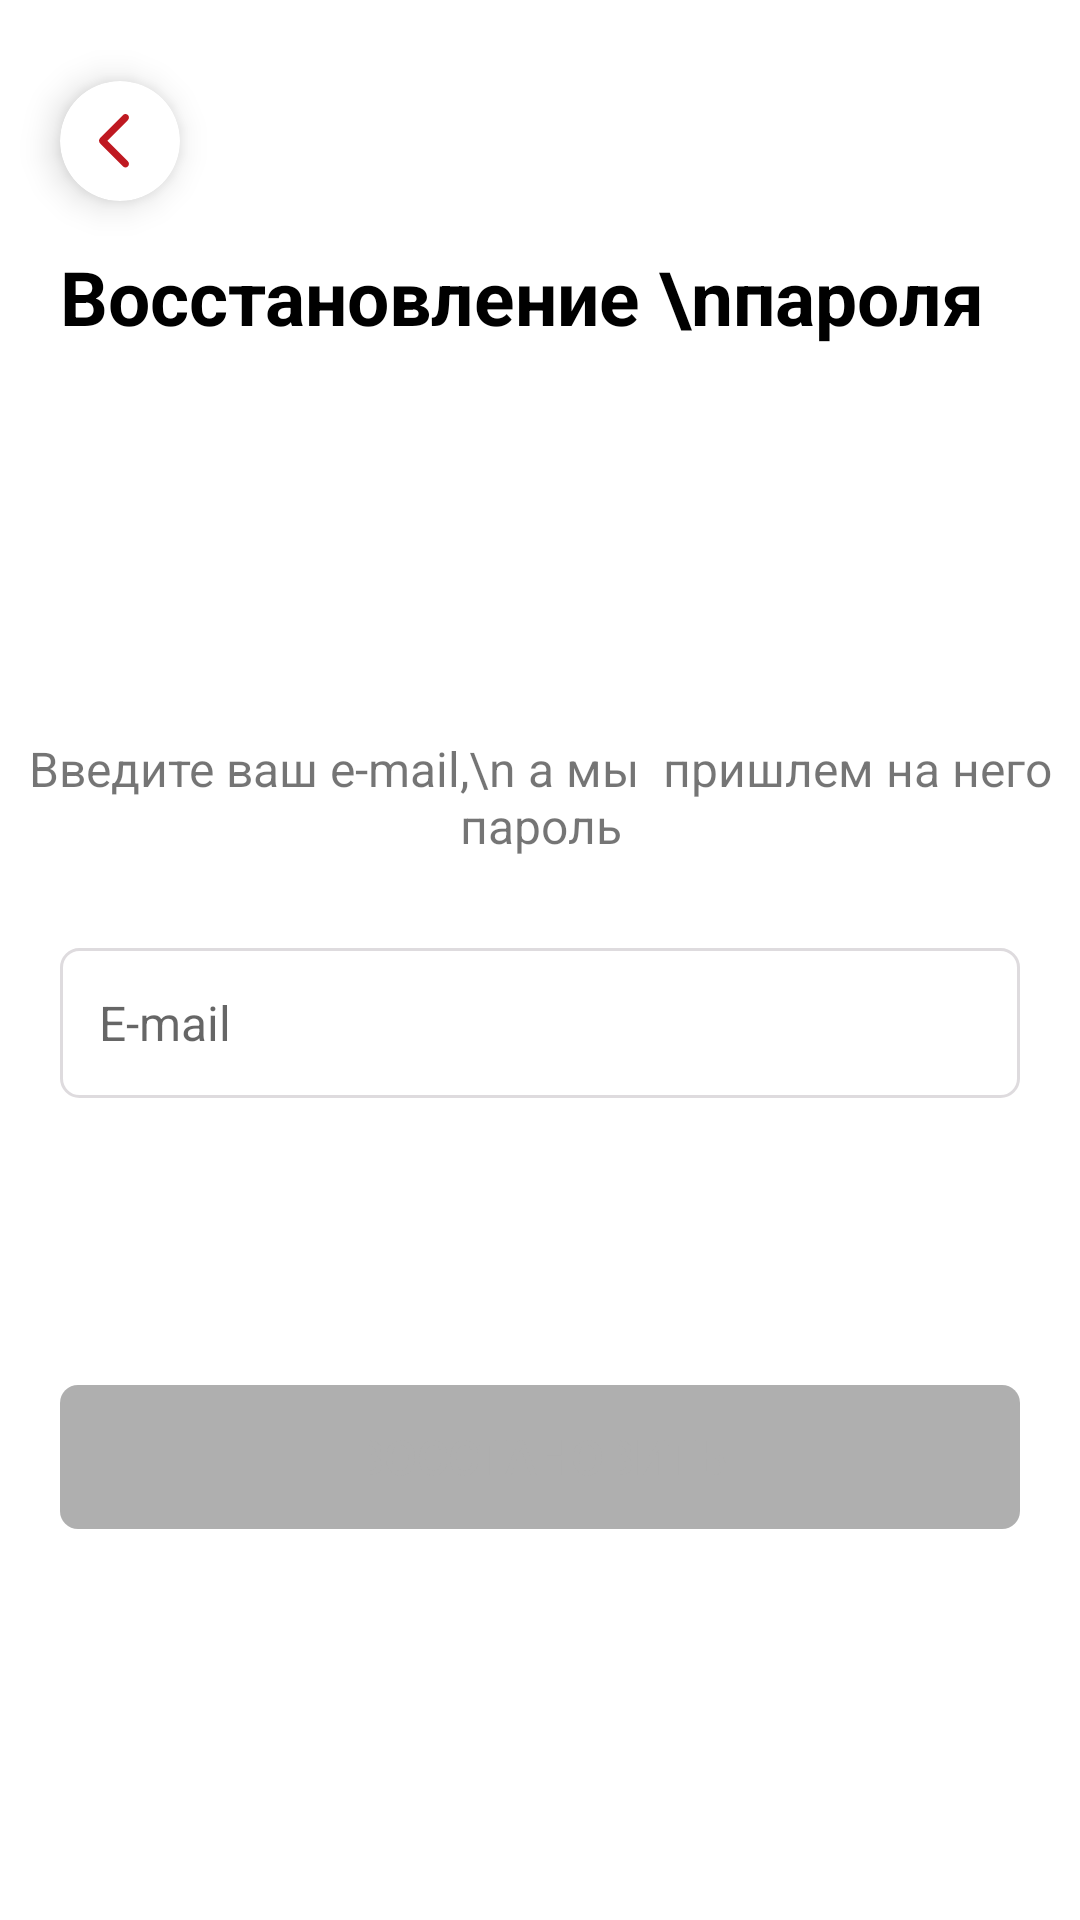

Where to tap for icons on this 1080 × 1920 app screen, as (x=x, y=y):
left: (x=114, y=141)
